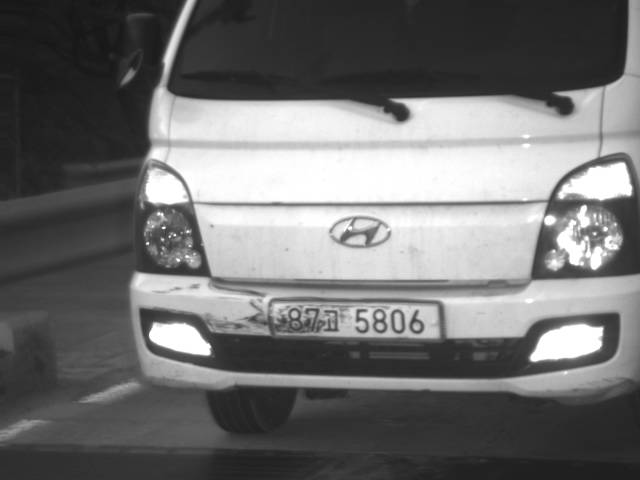car: (119, 1, 640, 435)
plate: (267, 297, 446, 342)
